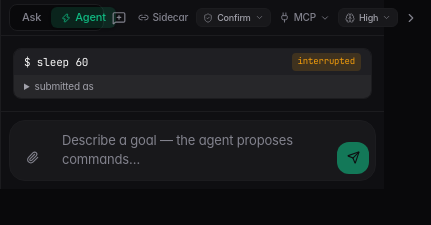
Scenario: AiPanel renders › describes a interrupted command without confirmed completion as submitted
Expected: the text "submitted as" is shown, [14,74,371,98]
Expected: the text "sleep 60 < /dev/null" is not shown
Click the heading "submitted as" at (64, 86), box [35,80,94,92]
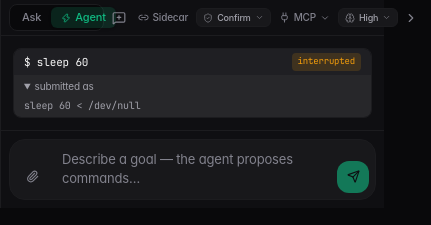
Expected: the text "interrupted" is shown, [298,55,355,67]
Now the text "sleep 60 < /dev/null" is shown, box [24,98,140,112]
